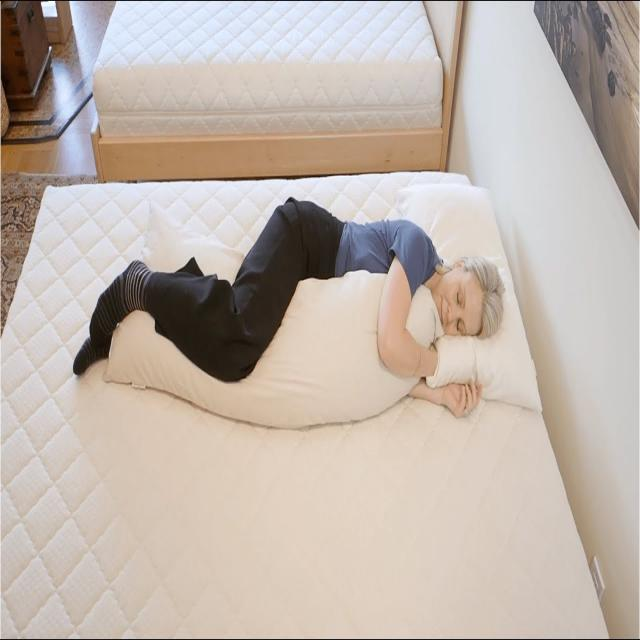people: (68, 178, 525, 434)
